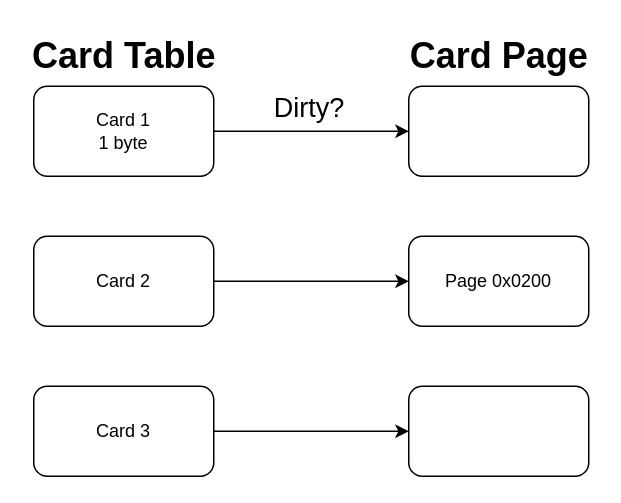
The diagram is 621 pixels wide and 503 high, and some of its shapes have lost their labels. The centre of each missing label's shape, as x and y in pixels:
"Page 0x0000 512 bytes" belongs at point 498,130.
"Page 0x0400" belongs at point 498,430.
